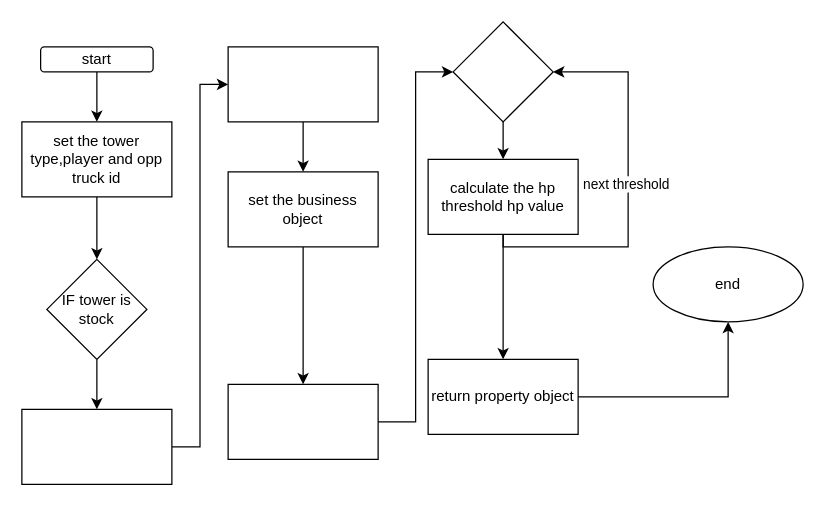
This 825x506 diagram has some shape labels left out. The shapes that lost their labels are listed below. From the top down, each one's box as (x1, y1, x2, y2) in pixels, then its label:
(227, 46, 378, 122): calculate the stock man trigger
(452, 21, 553, 122): FOR threshold
(227, 383, 378, 459): set the hp treshold arra and value
(21, 408, 172, 484): set the initial tower hp,stock value and stock man trigger
